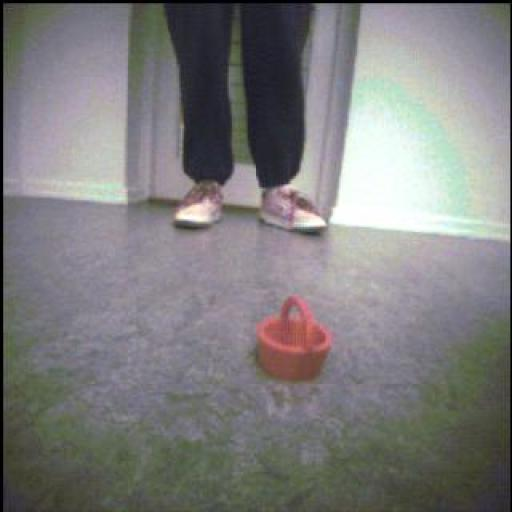Bucket: (257, 297, 334, 382)
